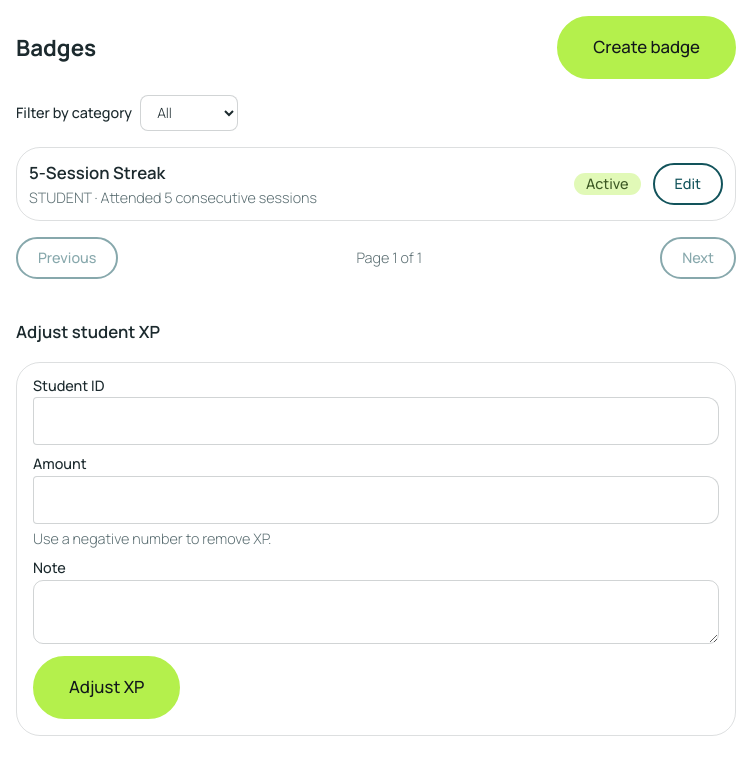
Test: BadgeManagementPage › XP adjustment without a note is blocked with a message
This screenshot has width=753, height=760.
In the field labelled "Student ID": (376, 421) [33,397,719,445], type "s1"
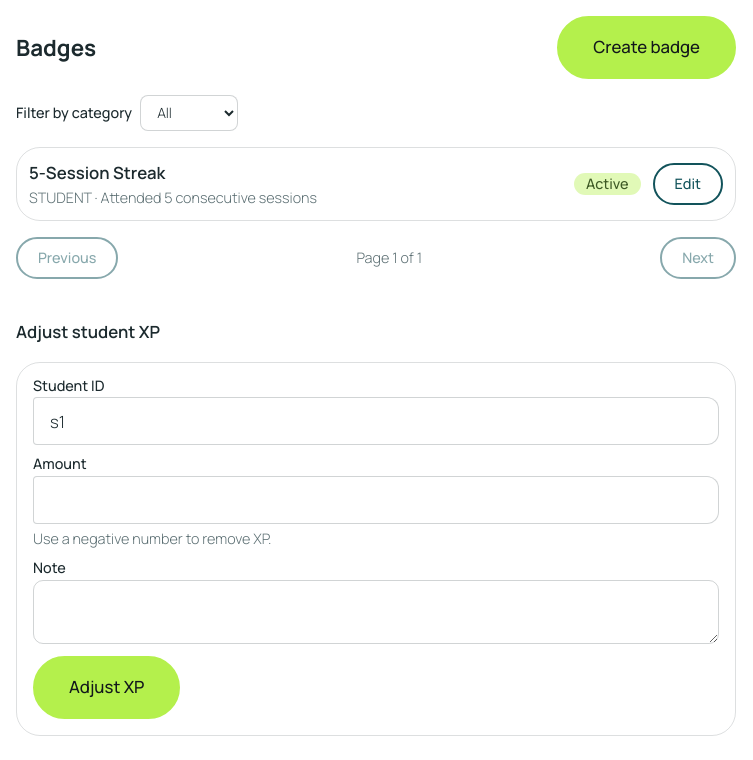
In the number field labelled "Amount": (376, 500) [33,476,719,524], type "-20"
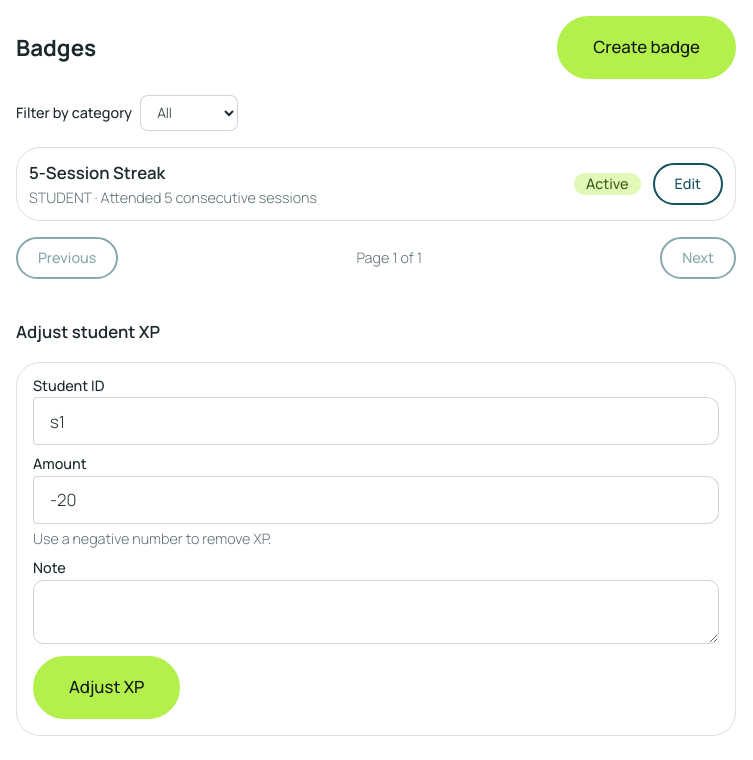
Click the button "Adjust XP": (107, 687) [33,656,180,719]
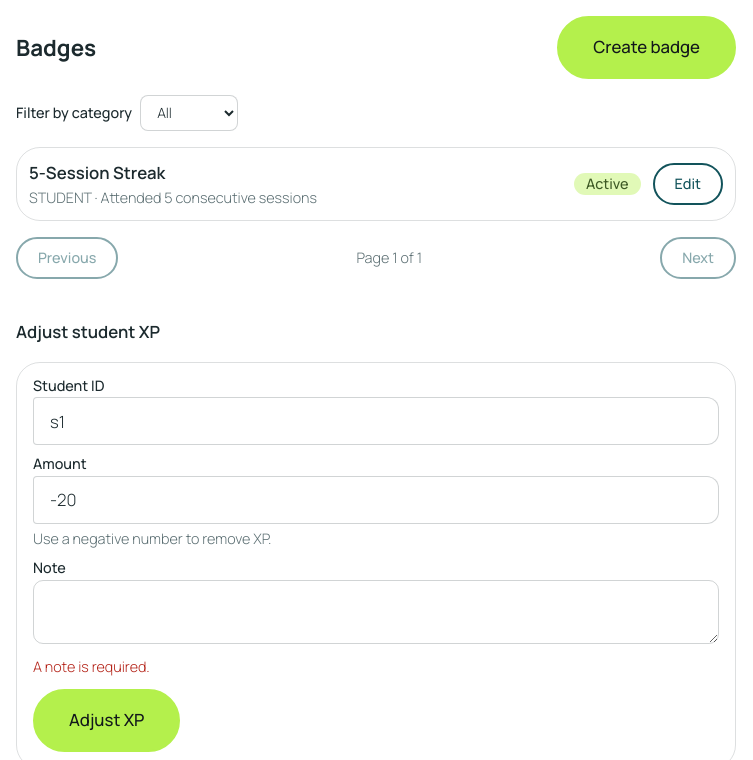
Now the message reads "A note is required.", box [33,657,150,676]
